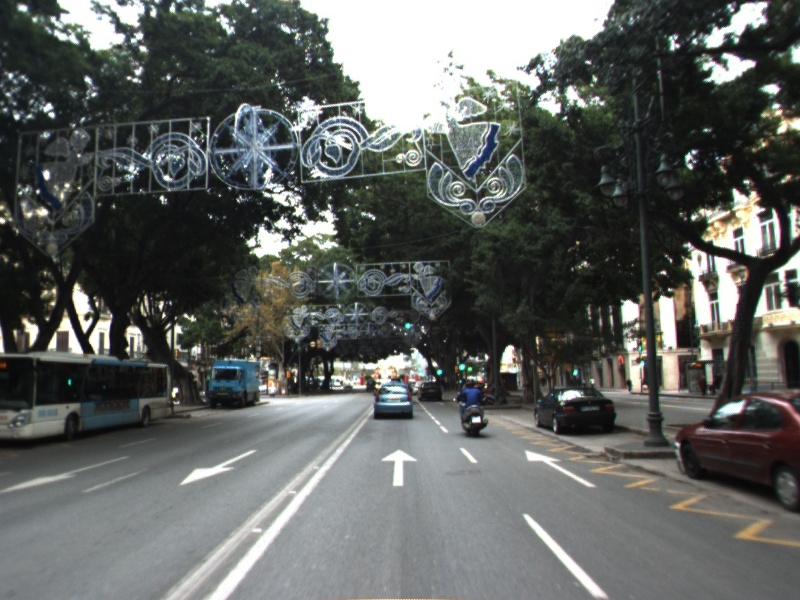STRAIGHT: (523, 448, 599, 489), (379, 447, 420, 488)
